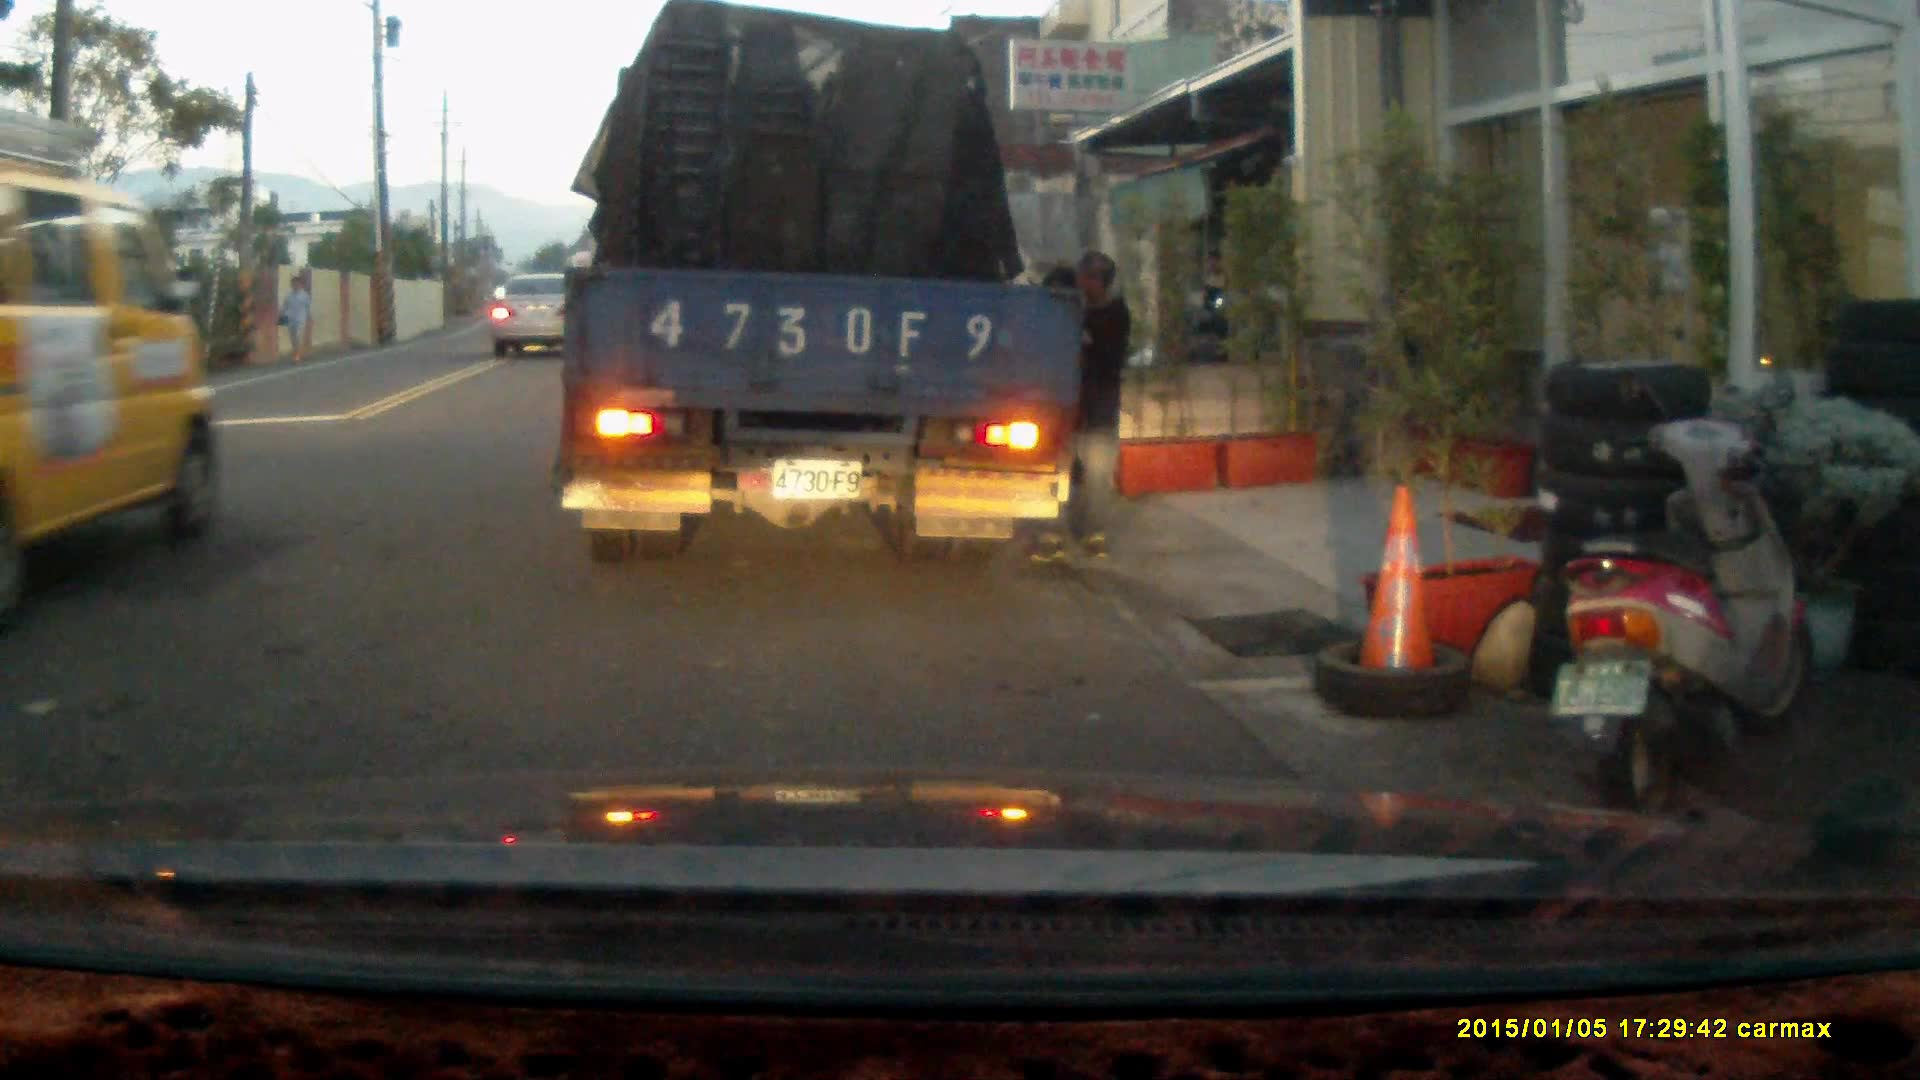pedestrian: (1011, 245, 1131, 562), (273, 273, 314, 368)
vehicle: (557, 25, 1070, 556), (1, 106, 224, 587), (494, 270, 586, 353)
